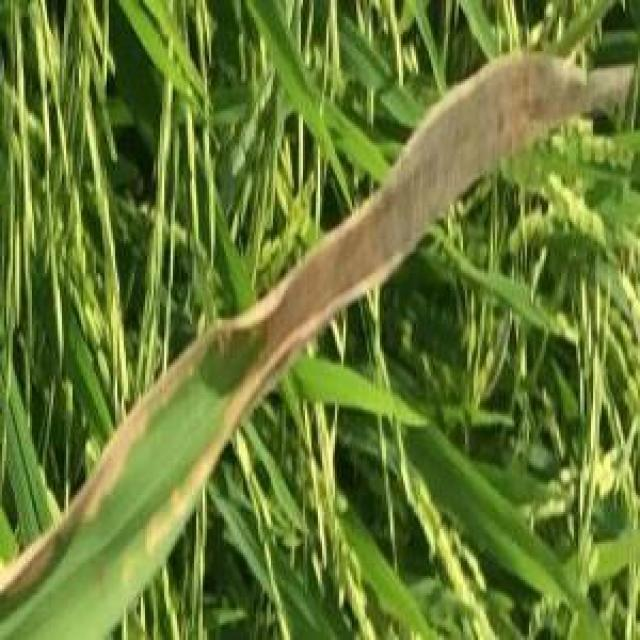Bacterial_Blight: (246, 54, 634, 362), (1, 304, 280, 596)
